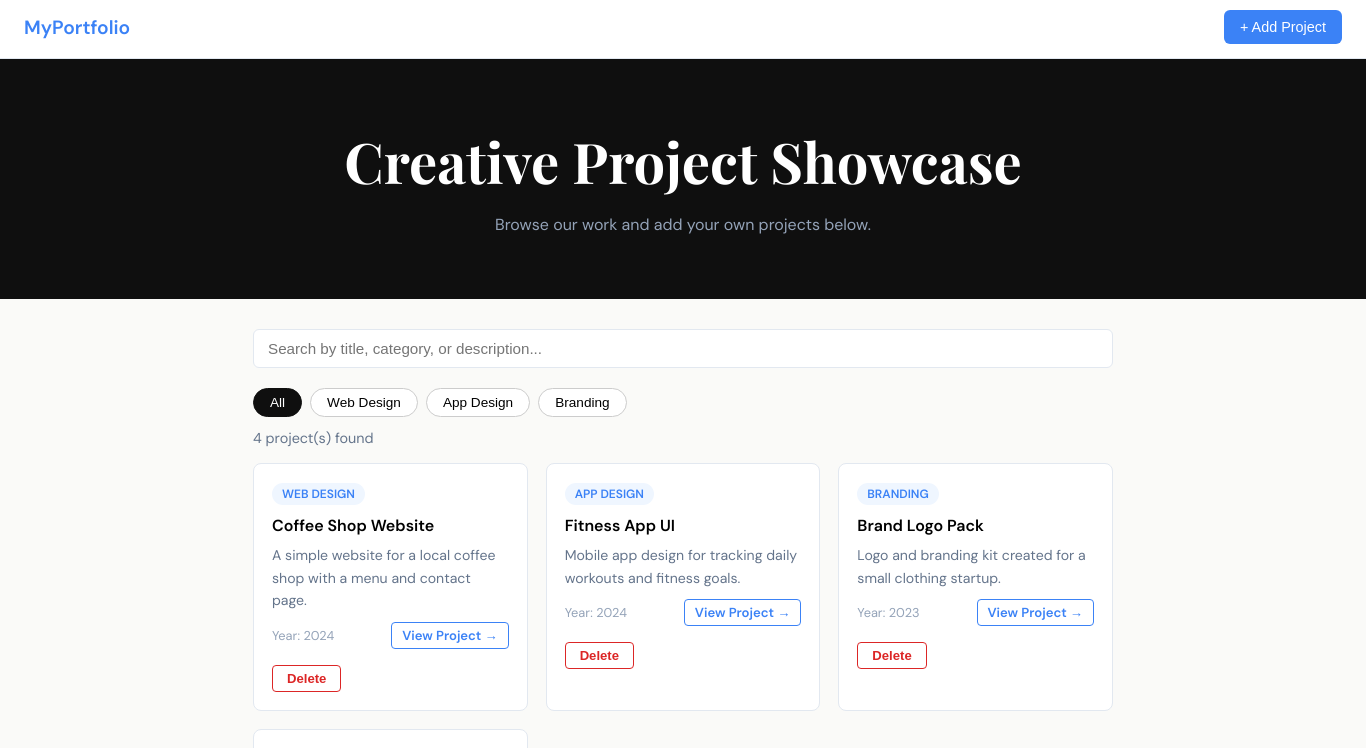
Test: new project appears after being added
The width and height of the screenshot is (1366, 748).
Step 1. Click the button "+ Add Project" → (1283, 27), box [1224,10,1342,44]
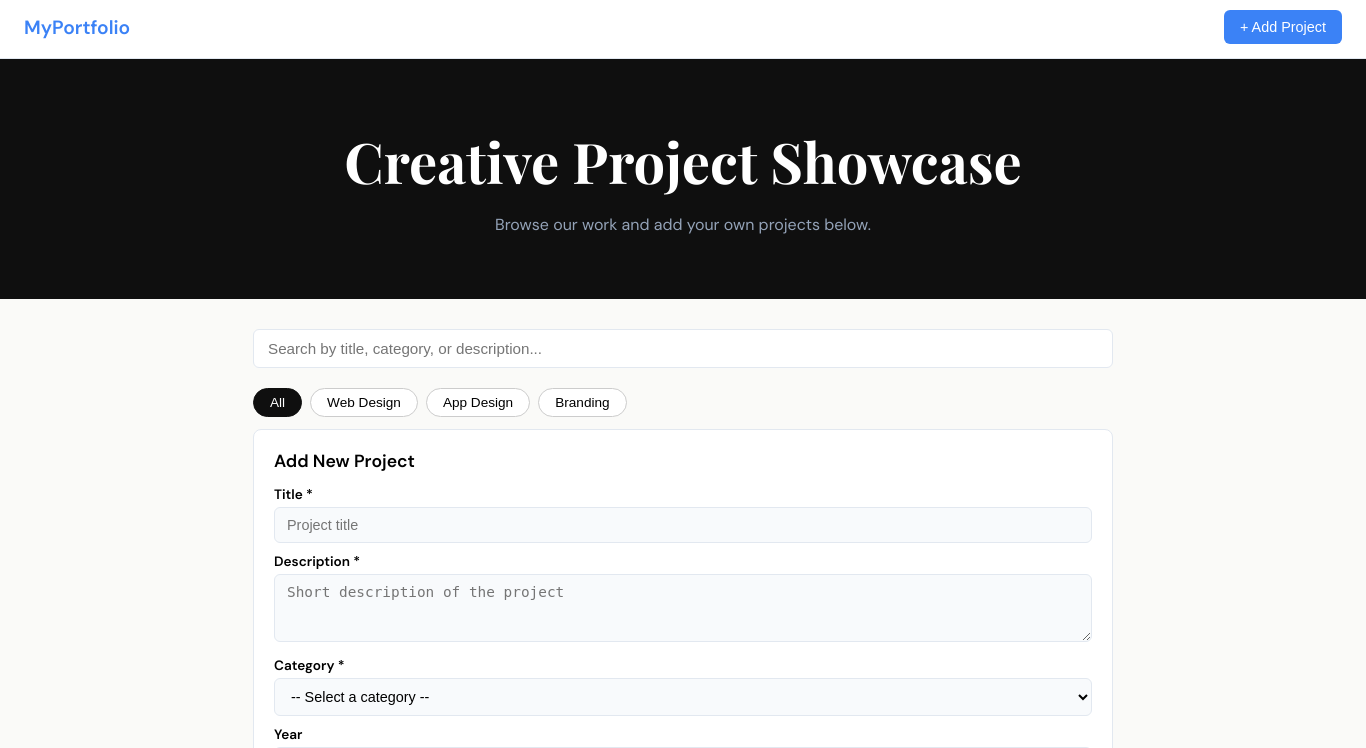
Step 2. Type "My Test Project" into the field with placeholder "Project title" → (683, 525), box [274,507,1092,543]
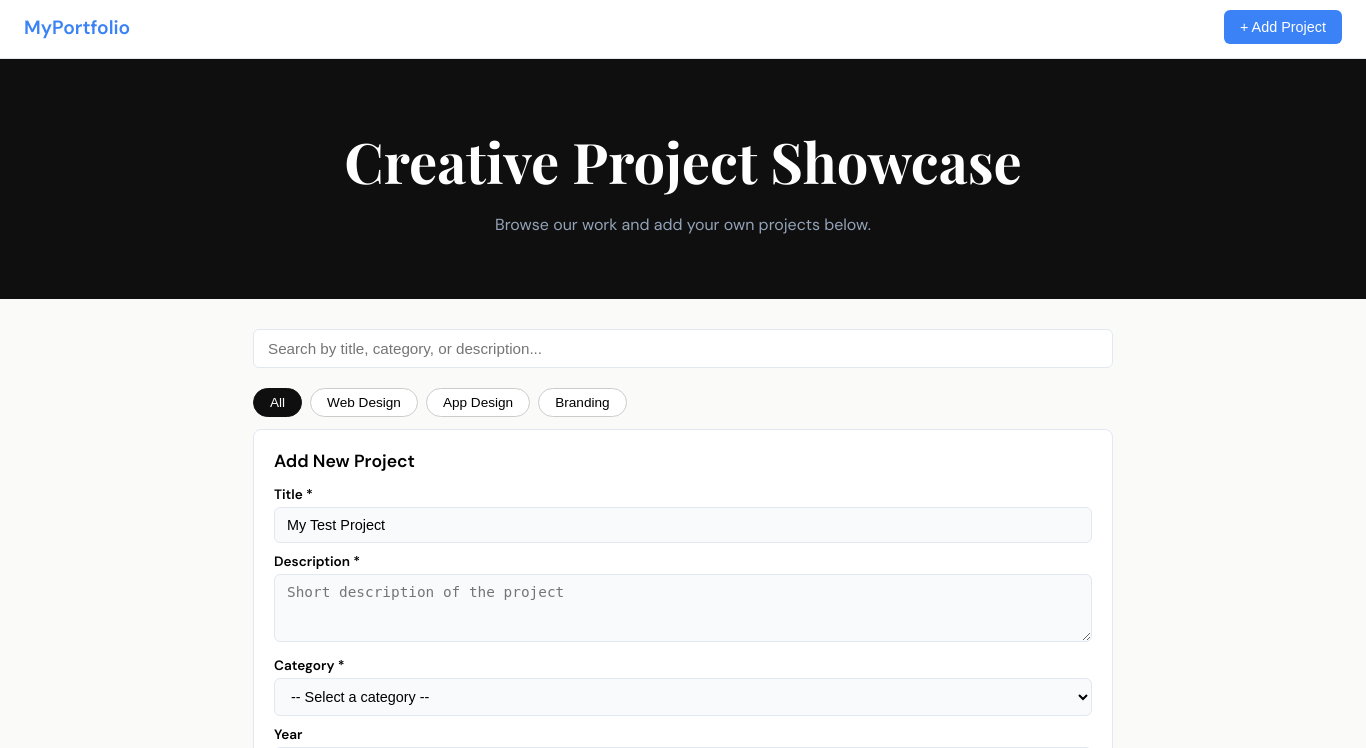
Step 3. Type "A test description" into the text box with placeholder "Short description of the project" → (683, 608), box [274,574,1092,642]
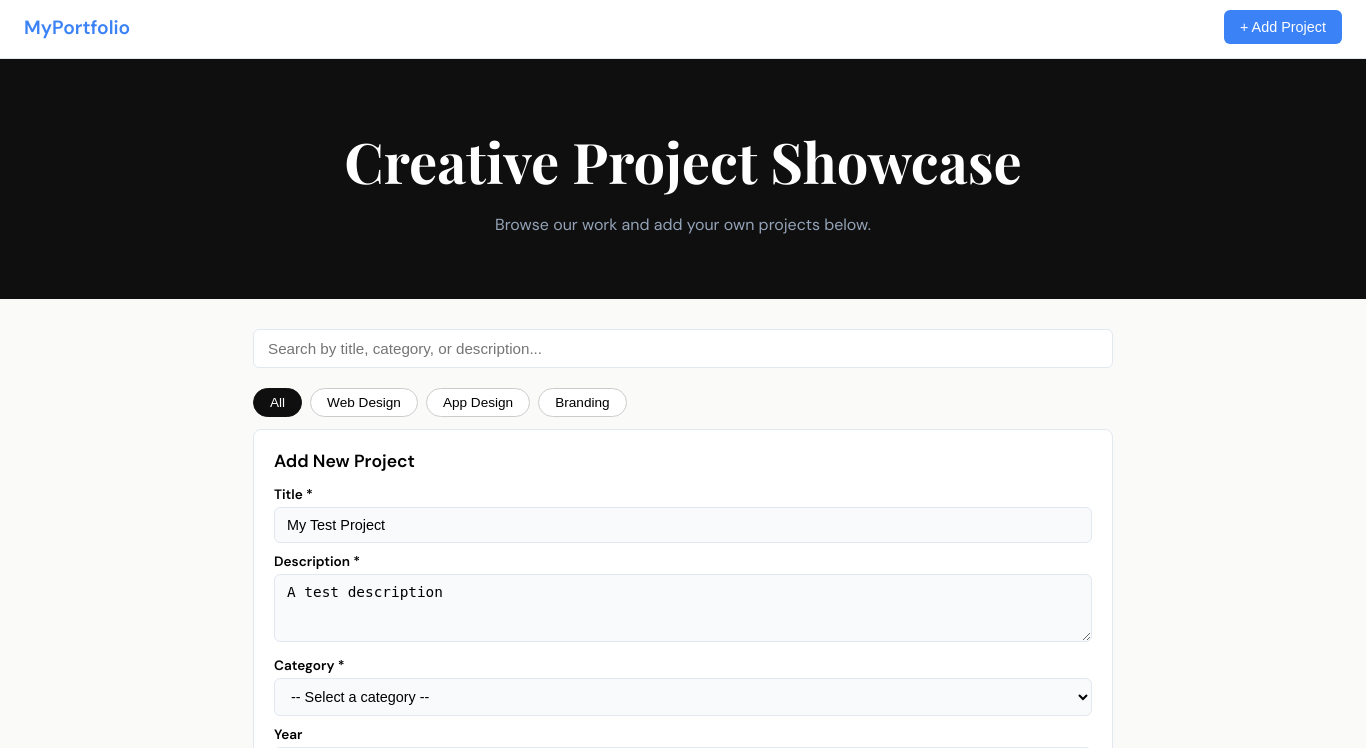
Step 4. Select "Web Design" in the dropdown showing "-- Select a category --" → (683, 697), box [274,678,1092,716]
(page scrolled)
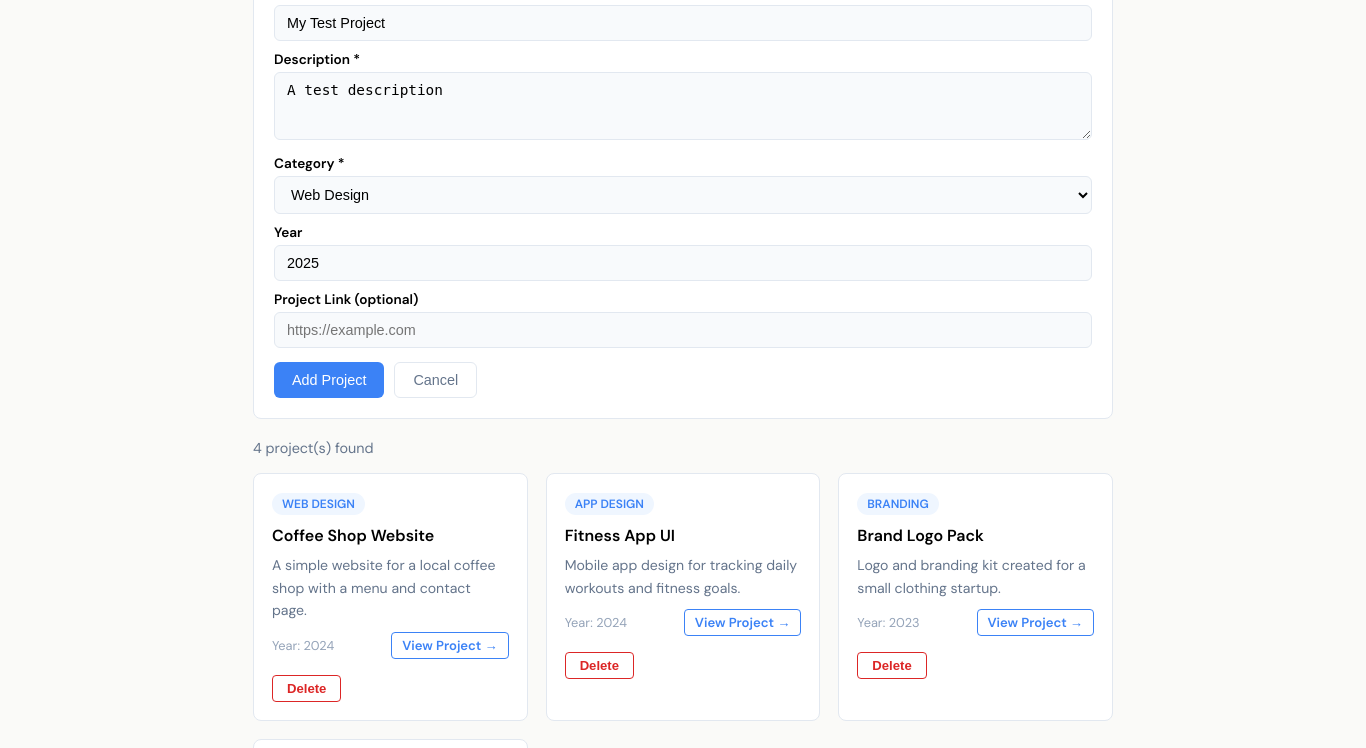
Step 5. Click the button "Add Project" → (329, 380), box [274,362,384,398]
(page scrolled)
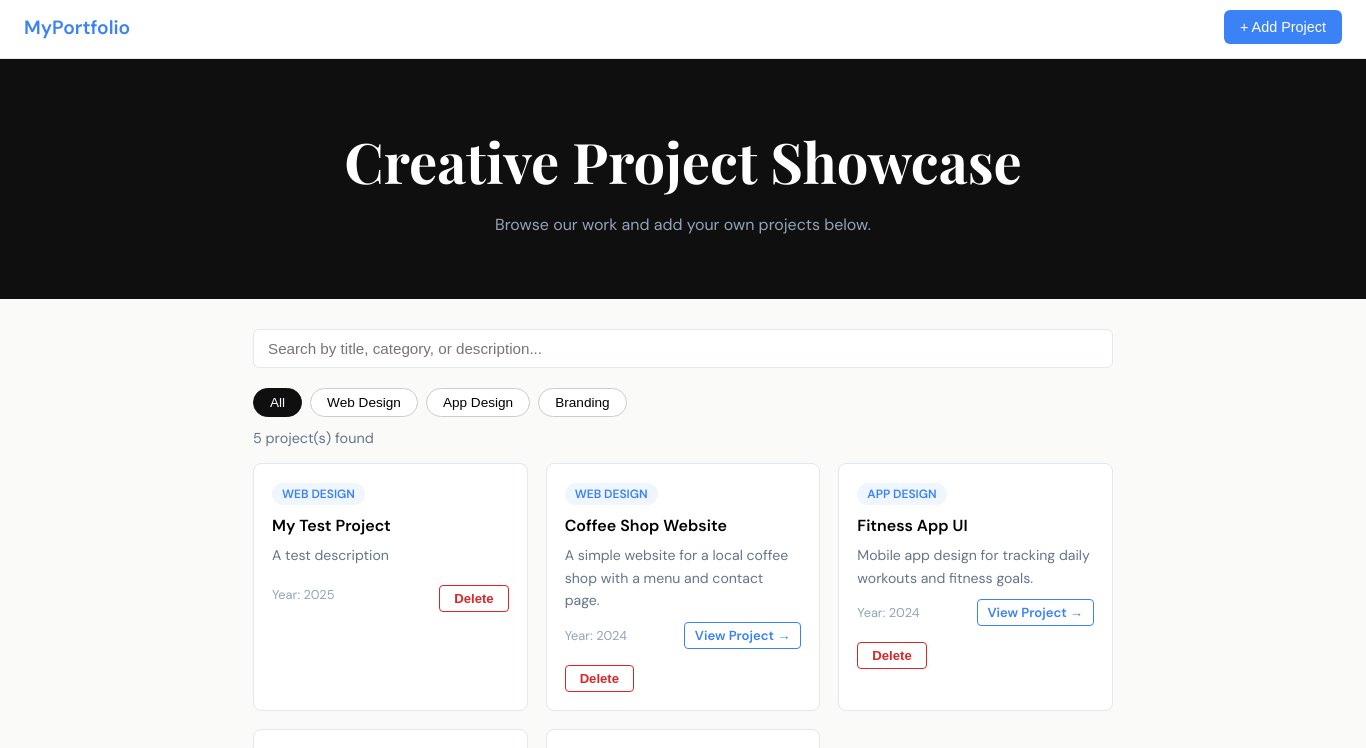
Expected: the heading "My Test Project" is shown, [272,515,391,536]
